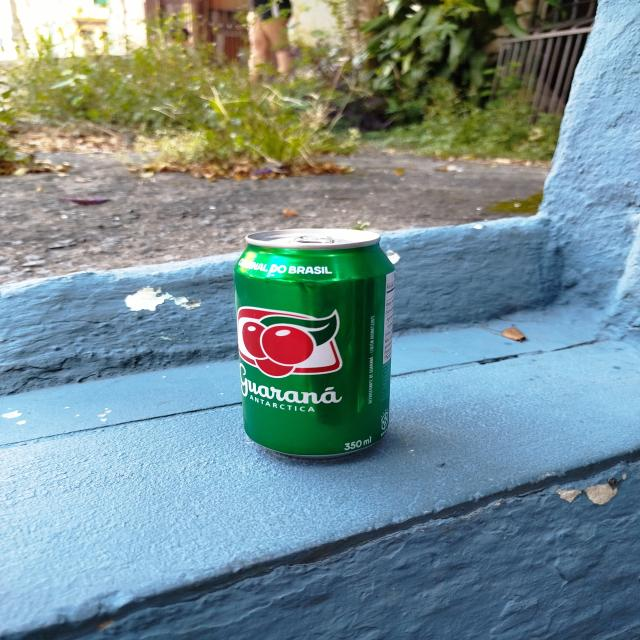Guarana: (235, 230, 396, 457)
